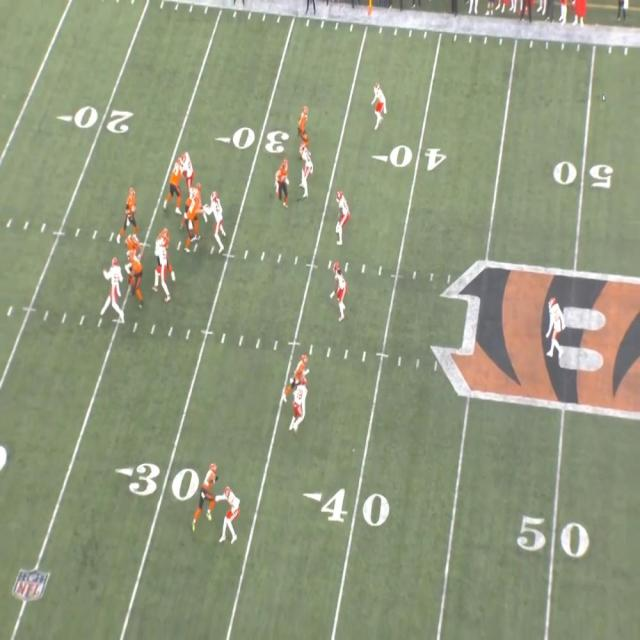db: (543, 299, 567, 358), (222, 485, 246, 543), (293, 376, 309, 434), (300, 143, 314, 196), (373, 84, 386, 130)
lb: (332, 190, 347, 241), (333, 266, 347, 318), (211, 203, 224, 253)
skill: (200, 463, 215, 521), (274, 158, 290, 202), (126, 231, 140, 277), (294, 351, 308, 393), (124, 189, 137, 233), (299, 105, 310, 136)
